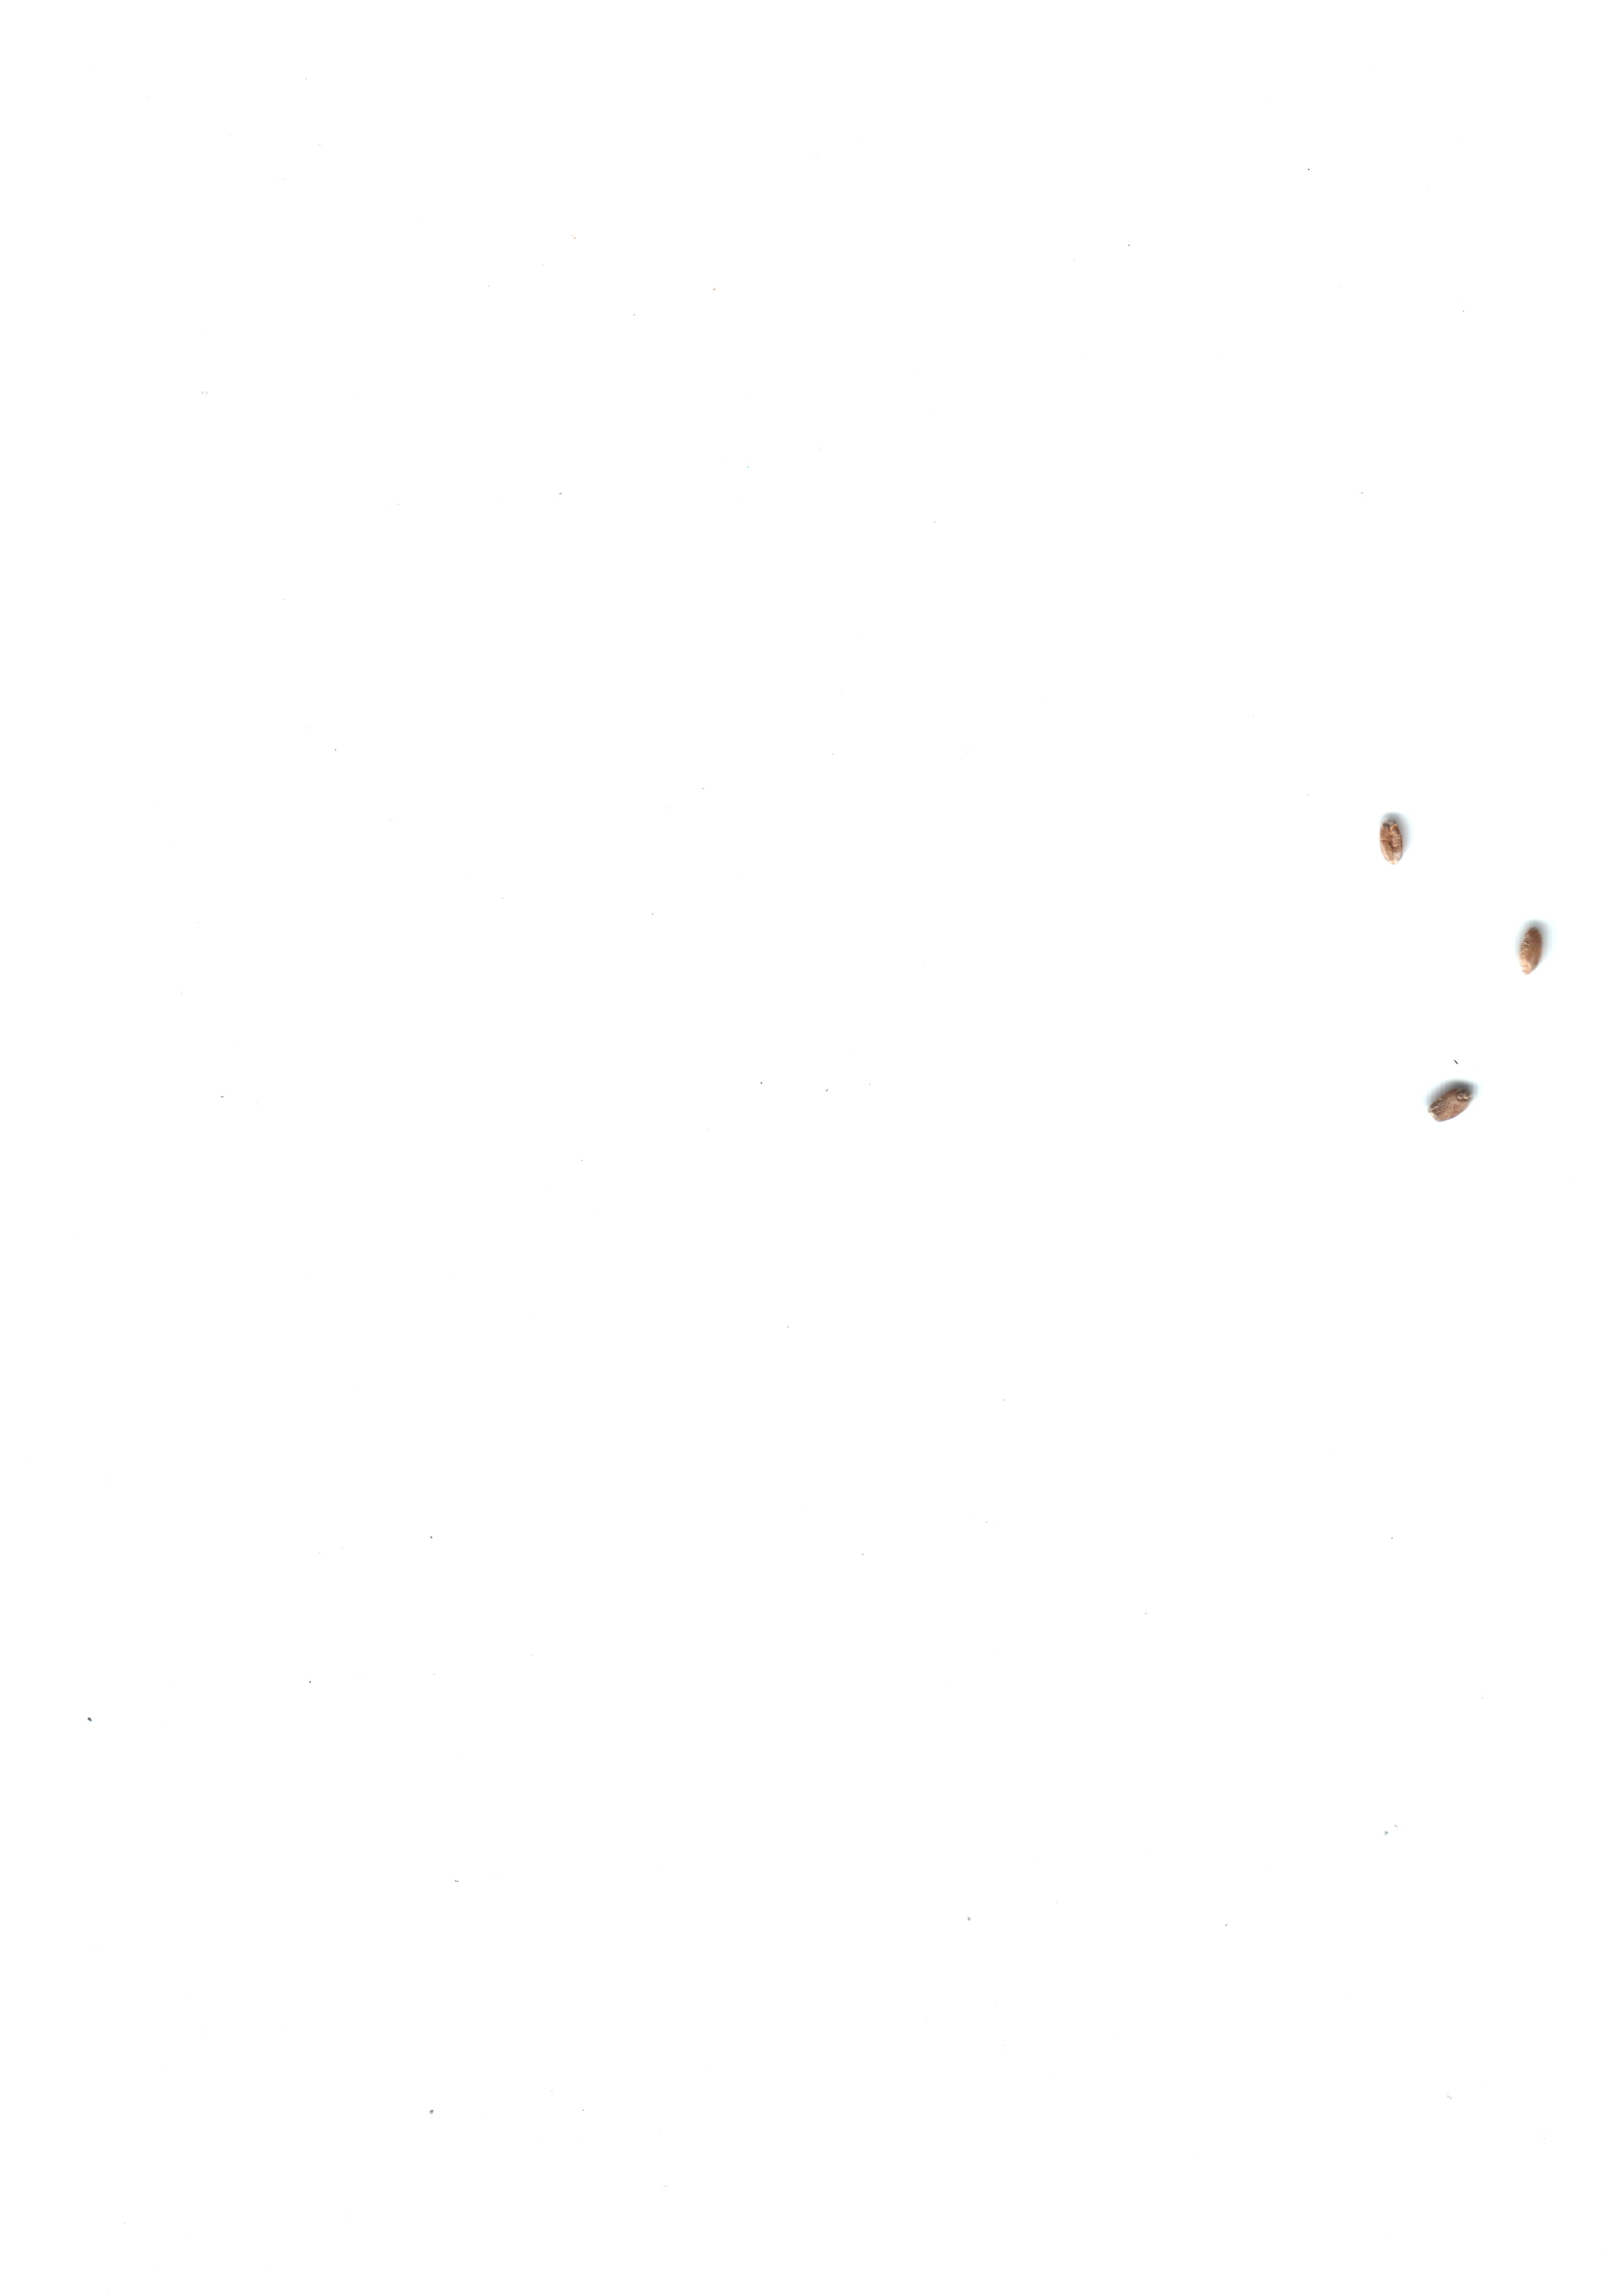grains_3mm: (1484, 901, 1579, 989), (1346, 792, 1440, 880), (1402, 1060, 1496, 1146)
